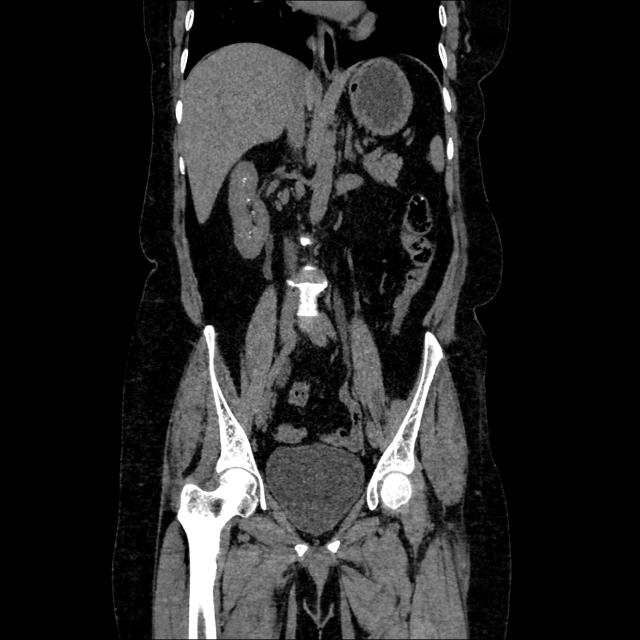kidney: (228, 160, 270, 260)
stone: (251, 210, 256, 215), (243, 176, 246, 181), (247, 197, 250, 202), (249, 230, 251, 234)
